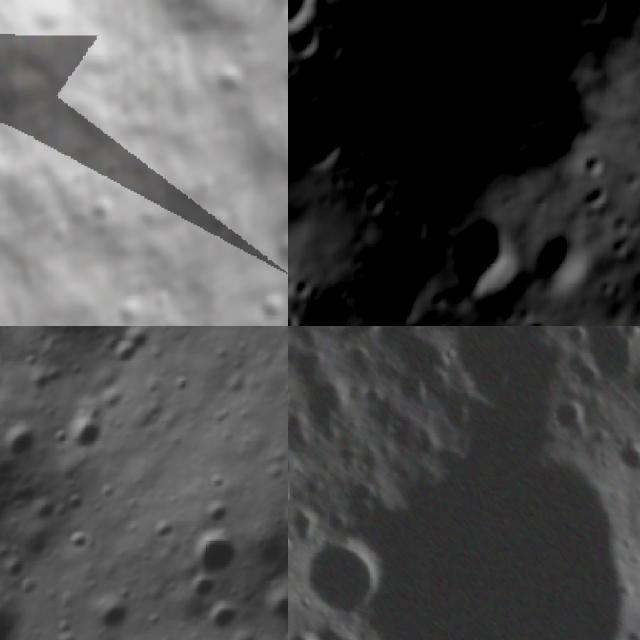crater: (291, 0, 640, 243), (428, 195, 542, 320), (296, 528, 398, 608), (524, 214, 604, 298), (178, 524, 247, 594), (0, 535, 36, 640), (104, 326, 158, 374), (19, 0, 81, 40), (194, 592, 245, 640), (86, 588, 134, 638), (67, 413, 112, 462), (211, 59, 255, 106), (192, 491, 237, 536), (0, 419, 41, 466), (58, 522, 102, 564), (288, 0, 327, 46), (134, 200, 174, 243), (182, 569, 221, 610), (192, 166, 231, 206), (251, 284, 288, 326), (147, 282, 185, 321), (516, 302, 571, 326), (144, 511, 179, 548), (110, 292, 147, 326), (267, 491, 288, 547), (14, 258, 47, 290), (98, 149, 128, 180), (236, 33, 264, 64), (180, 13, 209, 42), (270, 233, 288, 278), (68, 162, 95, 188), (127, 152, 153, 178), (288, 621, 322, 640), (147, 184, 171, 208), (161, 194, 186, 217), (273, 57, 288, 94), (177, 181, 200, 204), (200, 27, 223, 49), (280, 185, 288, 225), (226, 632, 261, 640), (288, 533, 297, 554), (0, 144, 6, 167)
